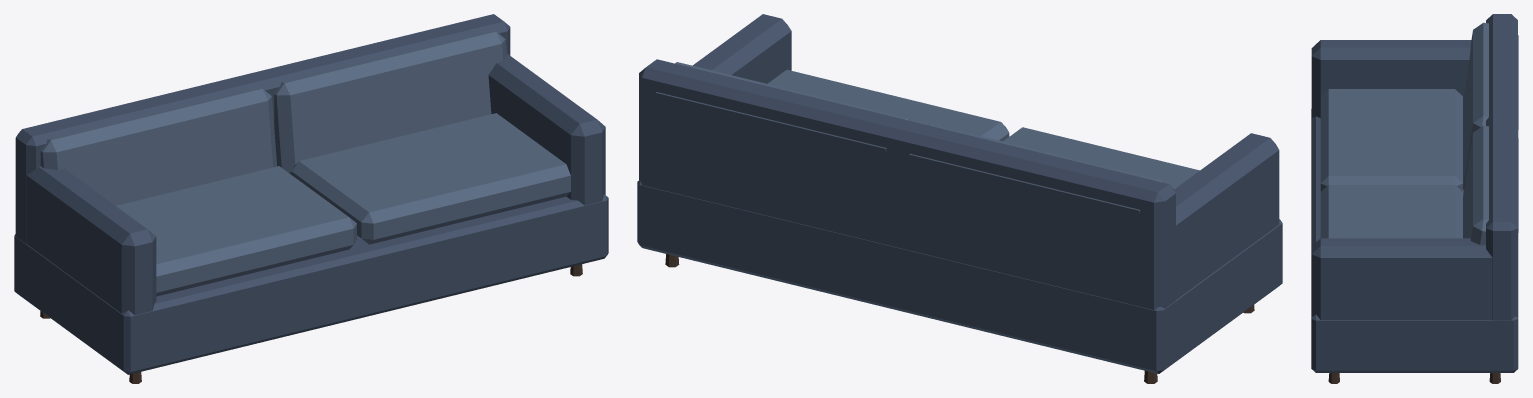
The model's file is sofa.glb.
3 views of the same model, side by side, from view 1: azimuth 30°, elevation 25°; view 2: azimuth 150°, elevation 25°; view 3: azimuth 270°, elevation 25° (orthographic). The views are drawn at different scales.
Parts seen in each view (by area): view 1: sofa; view 2: sofa; view 3: sofa.
Boxes of the visible parts, x1,y1,x2,y2 form: sofa: (14, 14, 608, 383); sofa: (637, 14, 1282, 383); sofa: (1311, 14, 1518, 383).
Bounding box in the file's own units: 2.2 × 0.8 × 0.9013.
